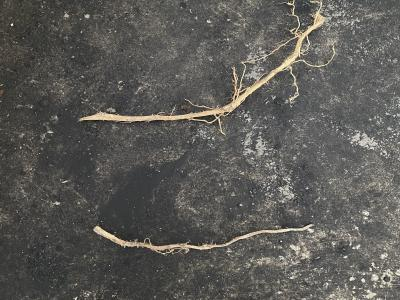Root: (79, 1, 335, 135), (93, 224, 313, 255)
